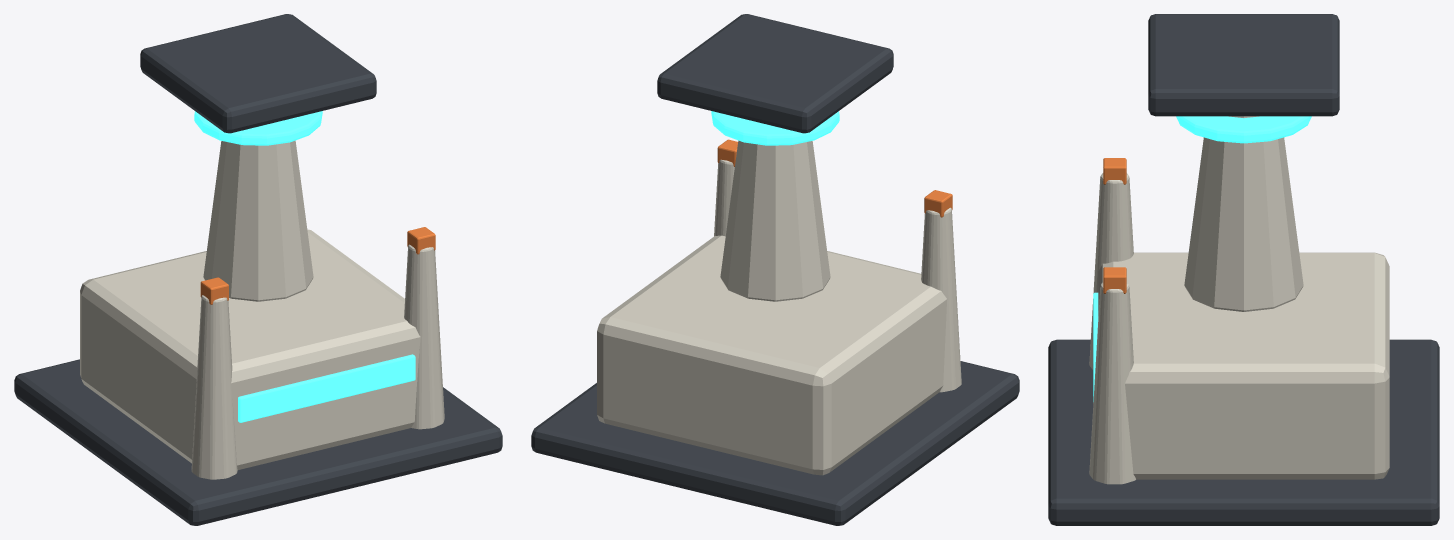
File: human_hq_t1.glb
3 views of the same model, side by side, from view 1: azimuth 30°, elevation 25°; view 2: azimuth 150°, elevation 25°; view 3: azimuth 270°, elevation 25° (orthographic). The views are drawn at different scales.
Parts seen in each view (by area): view 1: command_hall, foundation, crown, command_spire, support_pylon, support_pylon.001, ops_band, part_core, pylon_light, pylon_light.001; view 2: command_hall, foundation, crown, command_spire, support_pylon, part_core, support_pylon.001, pylon_light; view 3: command_hall, foundation, crown, command_spire, support_pylon.001, support_pylon, part_core, pylon_light.001, pylon_light.
Part boxes in pixels (x1=…): command_hall: x1=80, y1=229, x2=420, y2=469; foundation: x1=14, y1=359, x2=502, y2=525; crown: x1=140, y1=14, x2=376, y2=133; command_spire: x1=203, y1=140, x2=313, y2=301; support_pylon: x1=191, y1=295, x2=237, y2=479; support_pylon.001: x1=404, y1=244, x2=444, y2=429; ops_band: x1=238, y1=354, x2=415, y2=422; part_core: x1=194, y1=111, x2=322, y2=145; pylon_light: x1=200, y1=277, x2=228, y2=304; pylon_light.001: x1=407, y1=227, x2=435, y2=254; command_hall: x1=597, y1=235, x2=947, y2=475; foundation: x1=531, y1=361, x2=1019, y2=525; crown: x1=657, y1=14, x2=893, y2=133; command_spire: x1=720, y1=140, x2=830, y2=301; support_pylon: x1=921, y1=207, x2=961, y2=392; part_core: x1=711, y1=111, x2=839, y2=145; support_pylon.001: x1=714, y1=159, x2=734, y2=236; pylon_light: x1=924, y1=190, x2=952, y2=217; command_hall: x1=1098, y1=252, x2=1389, y2=479; foundation: x1=1048, y1=339, x2=1439, y2=525; crown: x1=1148, y1=14, x2=1339, y2=116; command_spire: x1=1184, y1=116, x2=1303, y2=311; support_pylon.001: x1=1089, y1=282, x2=1135, y2=484; support_pylon: x1=1089, y1=173, x2=1133, y2=369; part_core: x1=1176, y1=116, x2=1311, y2=143; pylon_light.001: x1=1103, y1=267, x2=1126, y2=293; pylon_light: x1=1103, y1=158, x2=1126, y2=184.
Size of the model in its own units: 4.7 by 5.23 by 4.7.
